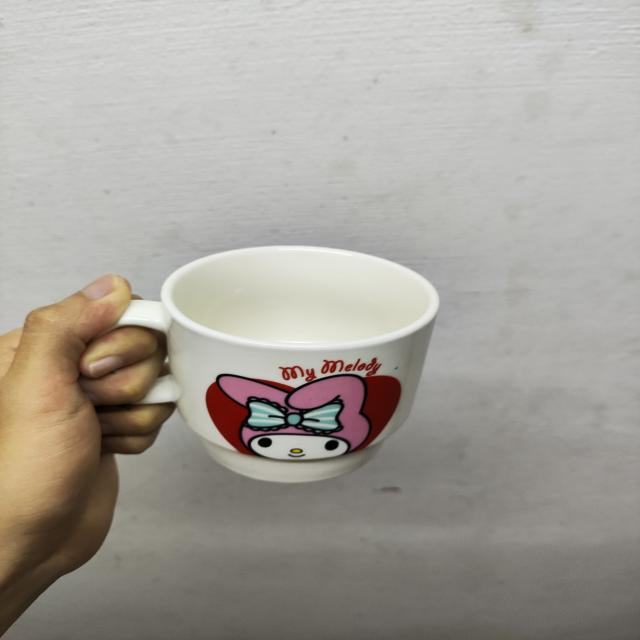cup: (90, 214, 453, 497)
